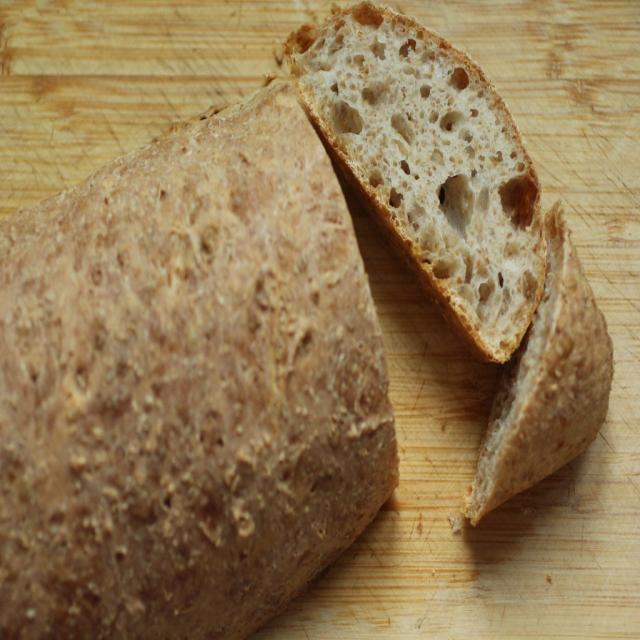Bread: (0, 72, 400, 640), (285, 0, 541, 361), (460, 199, 614, 526)
